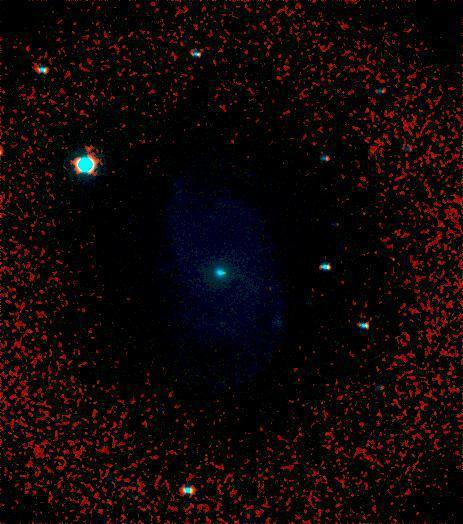star: (71, 131, 101, 161)
